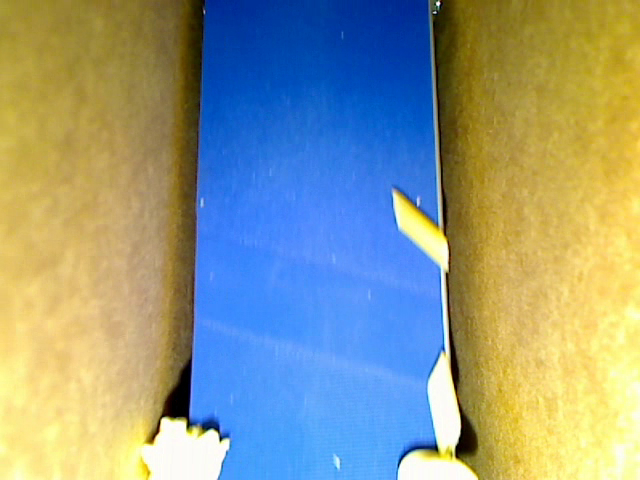penne: (391, 187, 450, 271), (424, 347, 461, 456)
